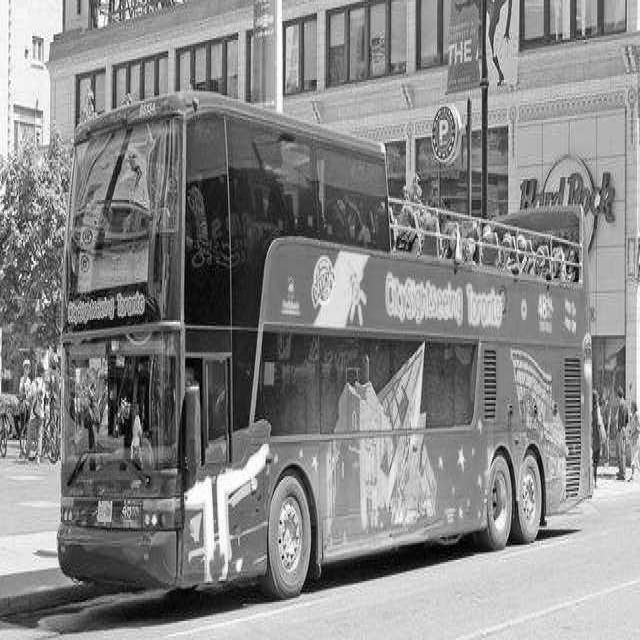Bus: (58, 90, 592, 596)
